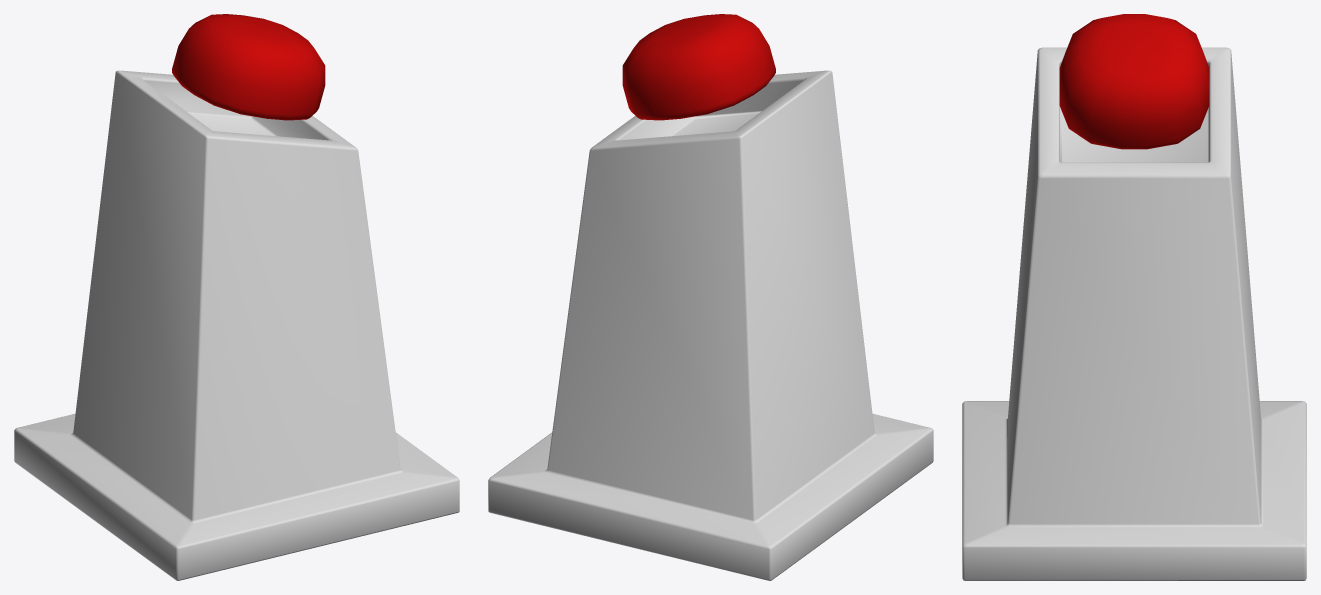
File: botao_asset_portas.glb
3 renders of one model, left to right at view 1: azimuth 30°, elevation 25°; view 2: azimuth 150°, elevation 25°; view 3: azimuth 270°, elevation 25°, orthographic. The views are drawn at different scales.
Visible parts, largest first — view 1: Cube; view 2: Cube; view 3: Cube.
Part boxes in pixels (box(x1,y1,x2,y2)): Cube: box(14, 14, 459, 580); Cube: box(488, 14, 933, 580); Cube: box(962, 14, 1306, 580).
Bounding box in the file's own units: 2.71 × 4.23 × 2.71.
